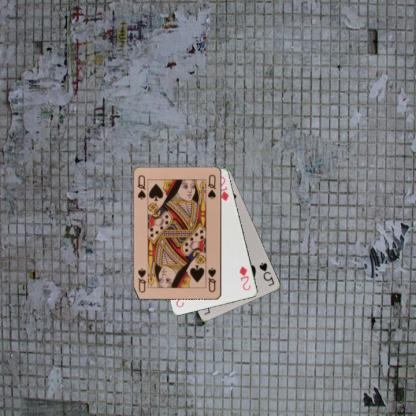2d: (236, 263, 252, 292)
5s: (256, 260, 275, 288)
Qs: (206, 265, 218, 294), (134, 173, 146, 201)
